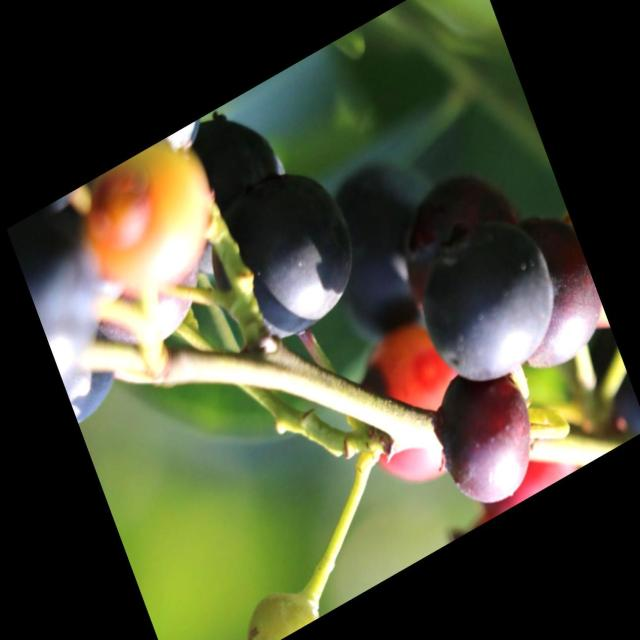blueberry: (195, 151, 375, 368), (407, 200, 570, 399), (418, 348, 553, 523), (482, 204, 610, 381)
blueberry-halfripe: (70, 124, 233, 313), (336, 307, 482, 502)
